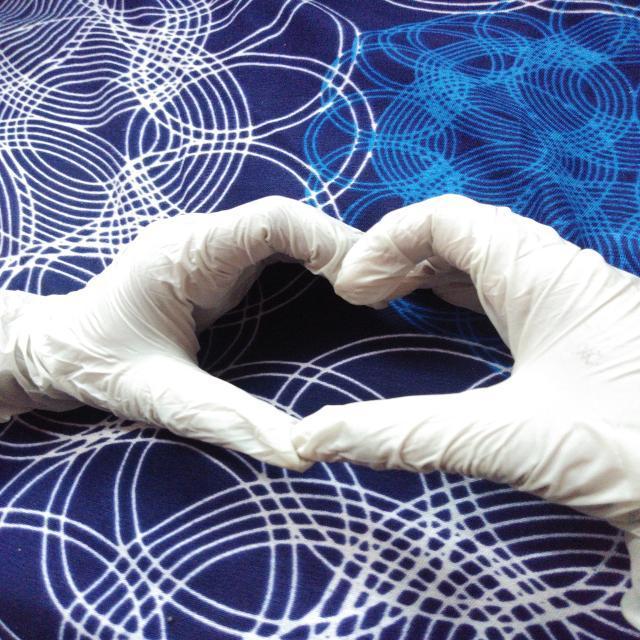glove_hand: (291, 190, 634, 538), (0, 185, 381, 480)
